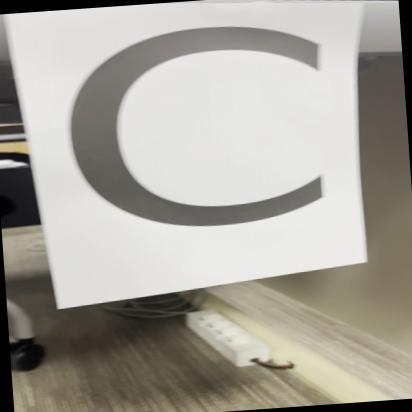seat: (31, 0, 371, 276)
